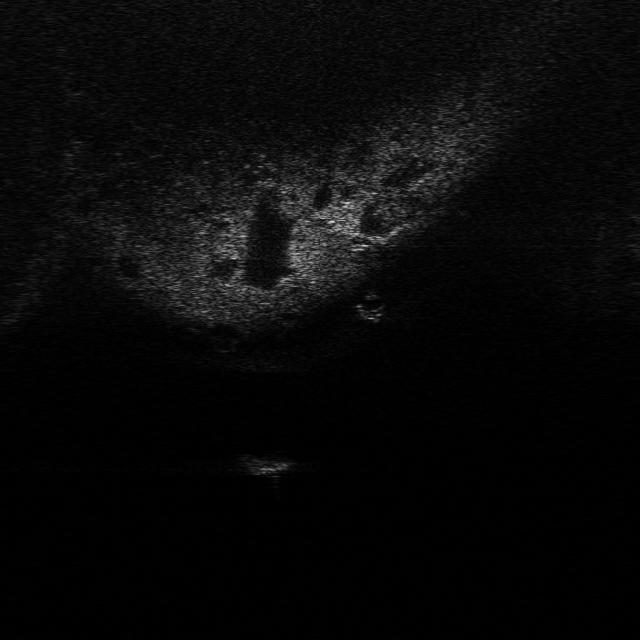ball: (353, 293, 388, 318)
cube: (231, 449, 298, 479)
